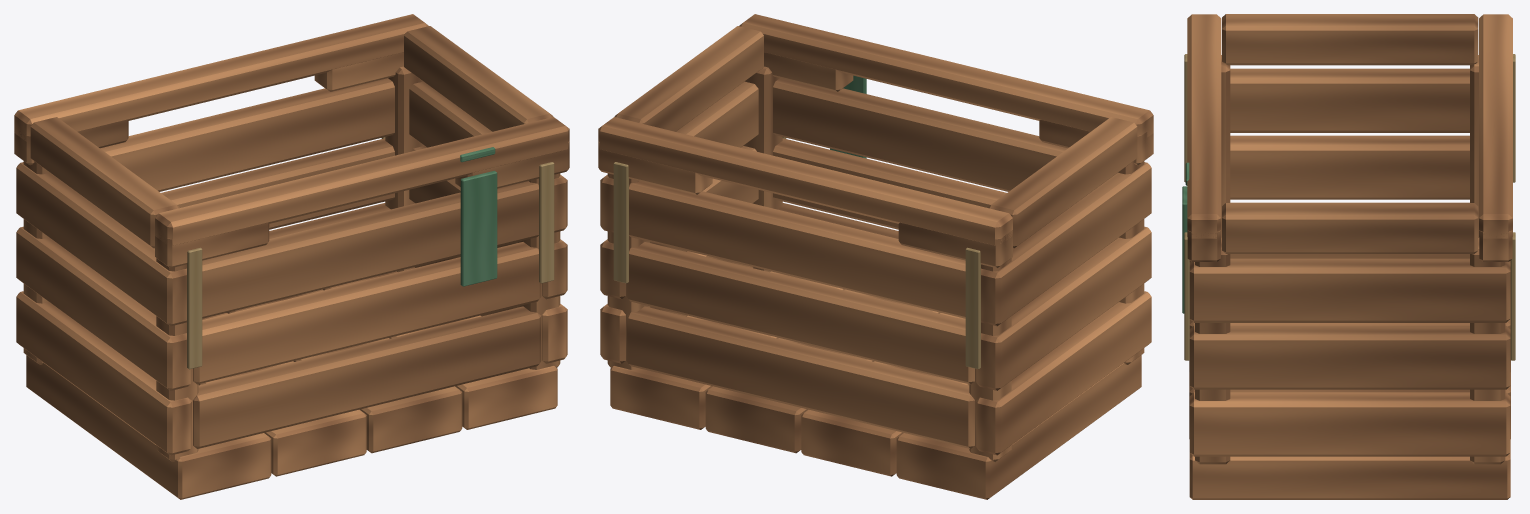
File: town_storage_open_crate_v01.glb
3 views of the same model, side by side, from view 1: azimuth 30°, elevation 25°; view 2: azimuth 150°, elevation 25°; view 3: azimuth 270°, elevation 25° (orthographic). The views are drawn at different scales.
Parts seen in each view (by area): view 1: LOD0_Static; view 2: LOD0_Static; view 3: LOD0_Static.
Boxes of the visible parts, <box> form: LOD0_Static: <box>14,14,569,499</box>; LOD0_Static: <box>598,14,1153,499</box>; LOD0_Static: <box>1182,14,1515,499</box>.
Size of the model in its own units: 0.751 by 0.5 by 0.5195.
Materials: 3 (3 with a texture image).
